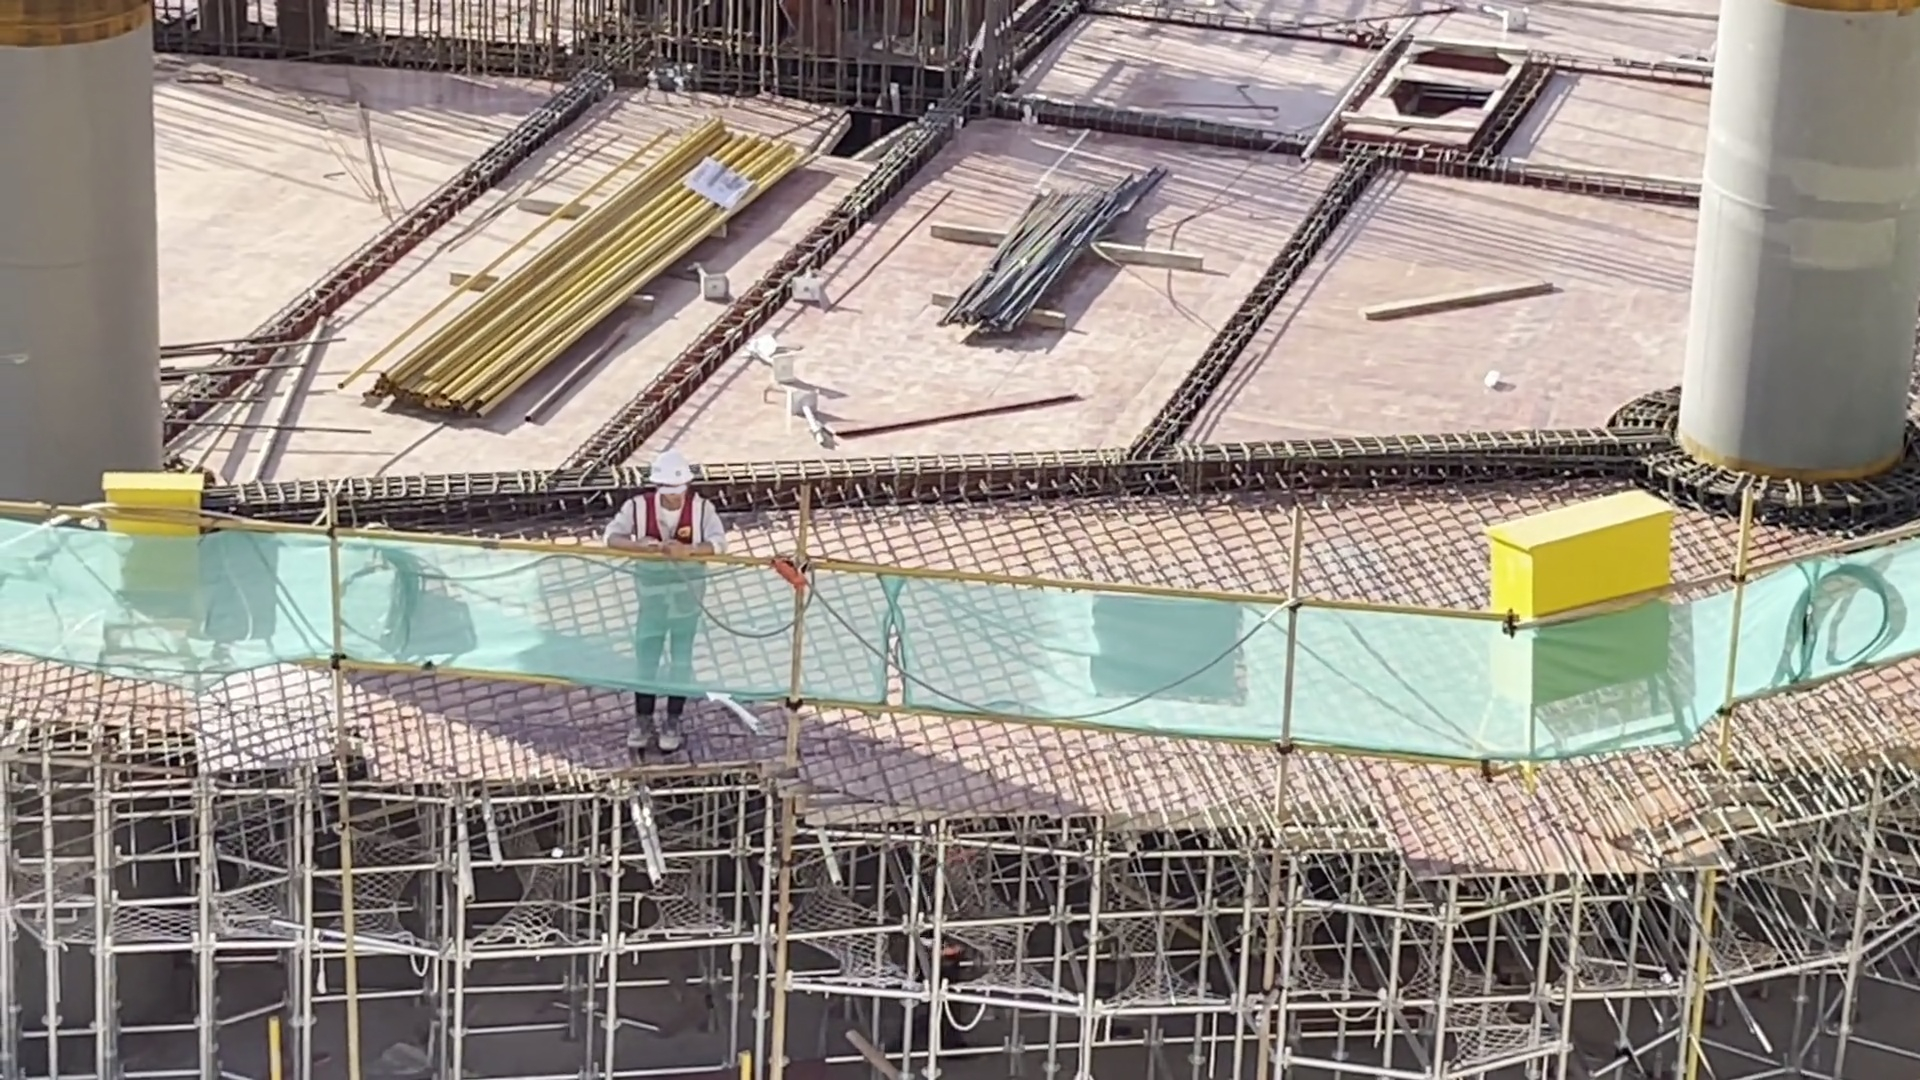ebox: (1493, 494, 1674, 699), (99, 462, 223, 572)
helmet: (653, 456, 686, 499), (959, 841, 986, 879)
person: (880, 833, 984, 1056), (634, 455, 711, 741)
rebar: (976, 169, 1129, 309)
vest: (631, 509, 694, 642), (933, 871, 989, 1001)
